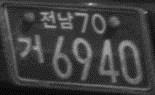0: (117, 39, 144, 86), (91, 12, 106, 35)
4: (97, 39, 120, 83)
6: (51, 36, 73, 80)
7: (74, 11, 89, 34)
9: (71, 37, 92, 80)
거: (16, 34, 45, 64)
전남_O: (39, 9, 74, 31)
